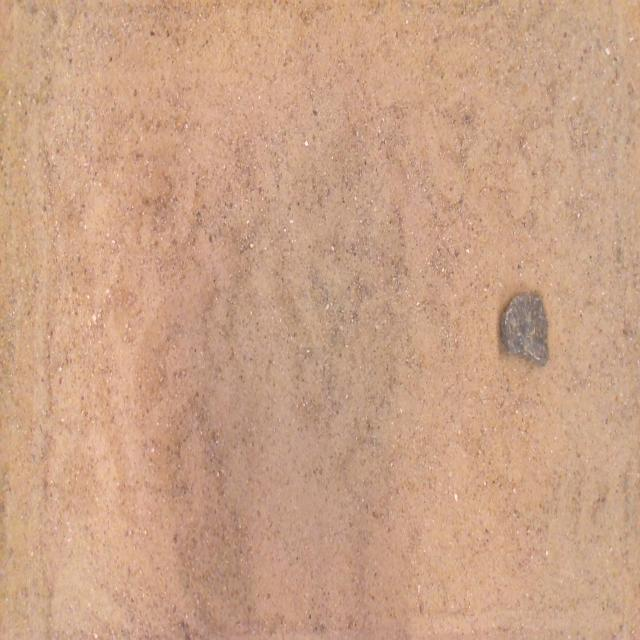rock: (501, 294, 548, 364)
